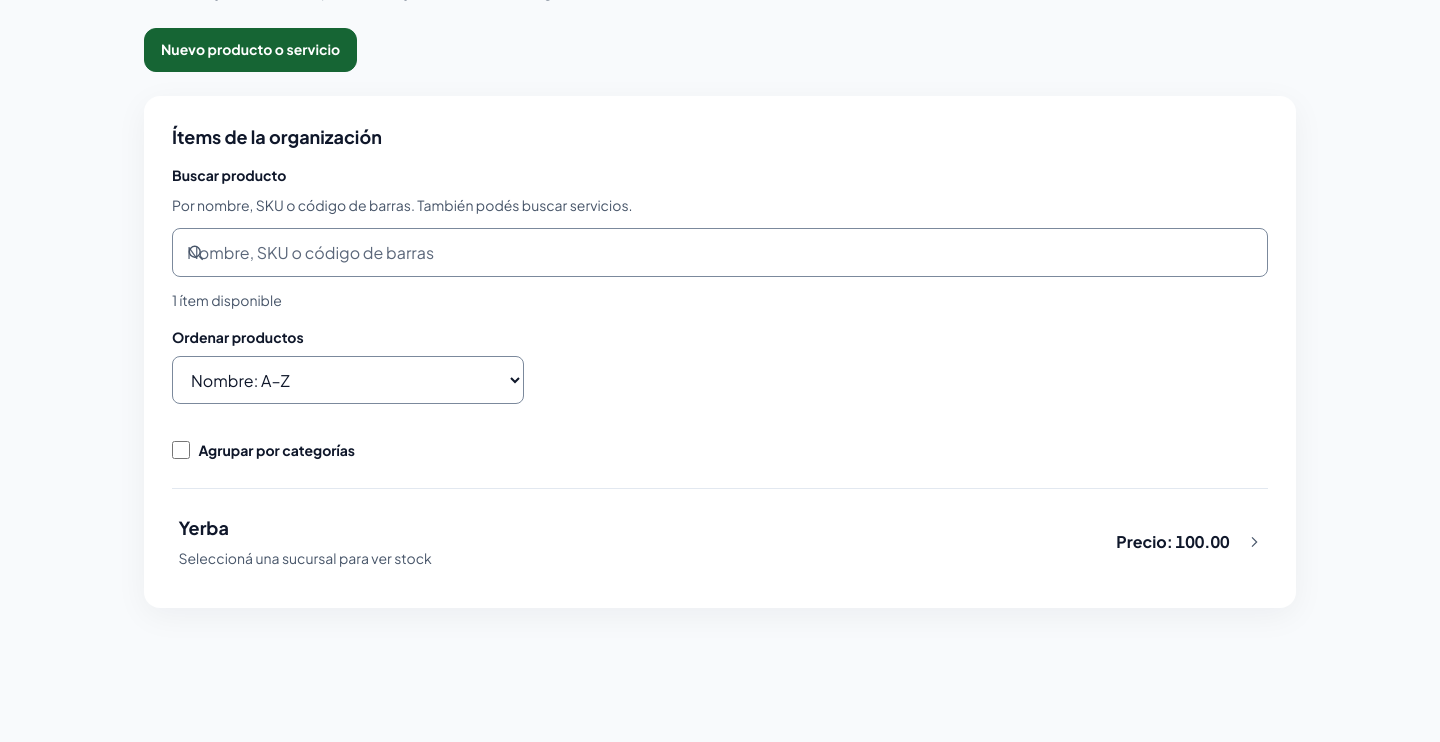
Scenario: keeps price, structure, status and deletion inside product editing
Click the text "Yerba" at (204, 528), box [178,516,229,539]
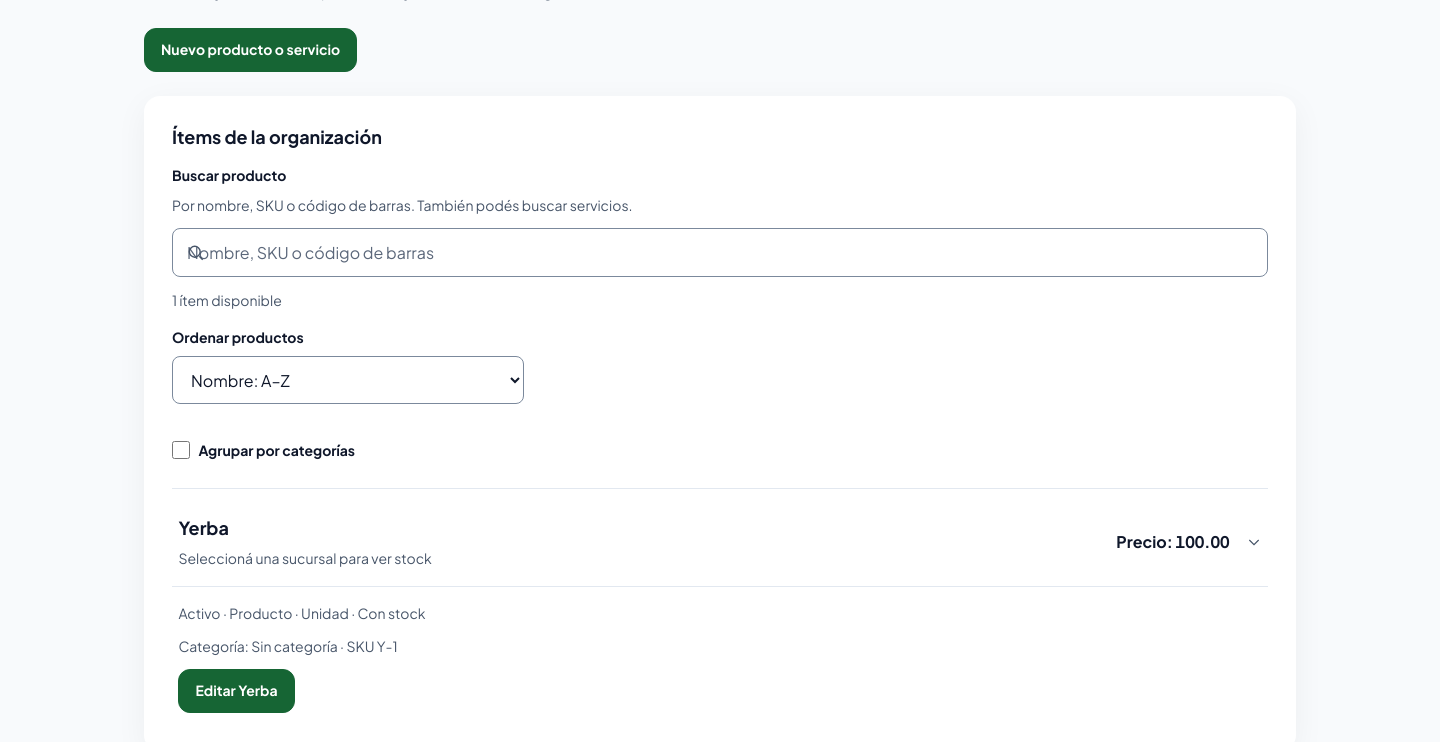
Expected: the button "Cambiar precio de Yerba" is not shown
Expected: the button "Cambiar estructura de Yerba" is not shown
Click the button "Editar Yerba" at (236, 691), box [178,669,295,713]
(page scrolled)
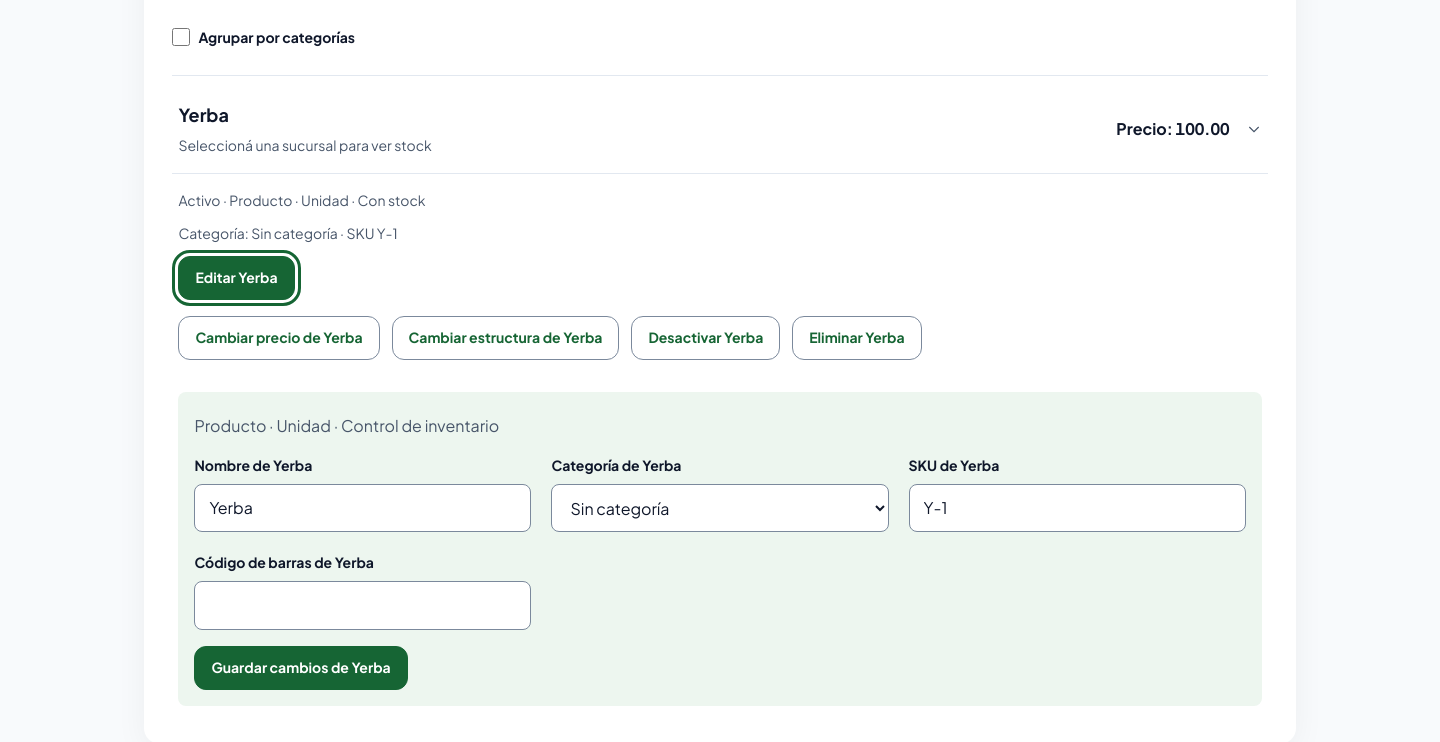
Now the button "Cambiar precio de Yerba" is shown
Now the button "Cambiar estructura de Yerba" is shown, box [392,316,619,360]
Now the button "Desactivar Yerba" is shown, box [631,316,780,360]
Click the button "Cambiar precio de Yerba" at (279, 338), box [178,316,380,360]
(page scrolled)
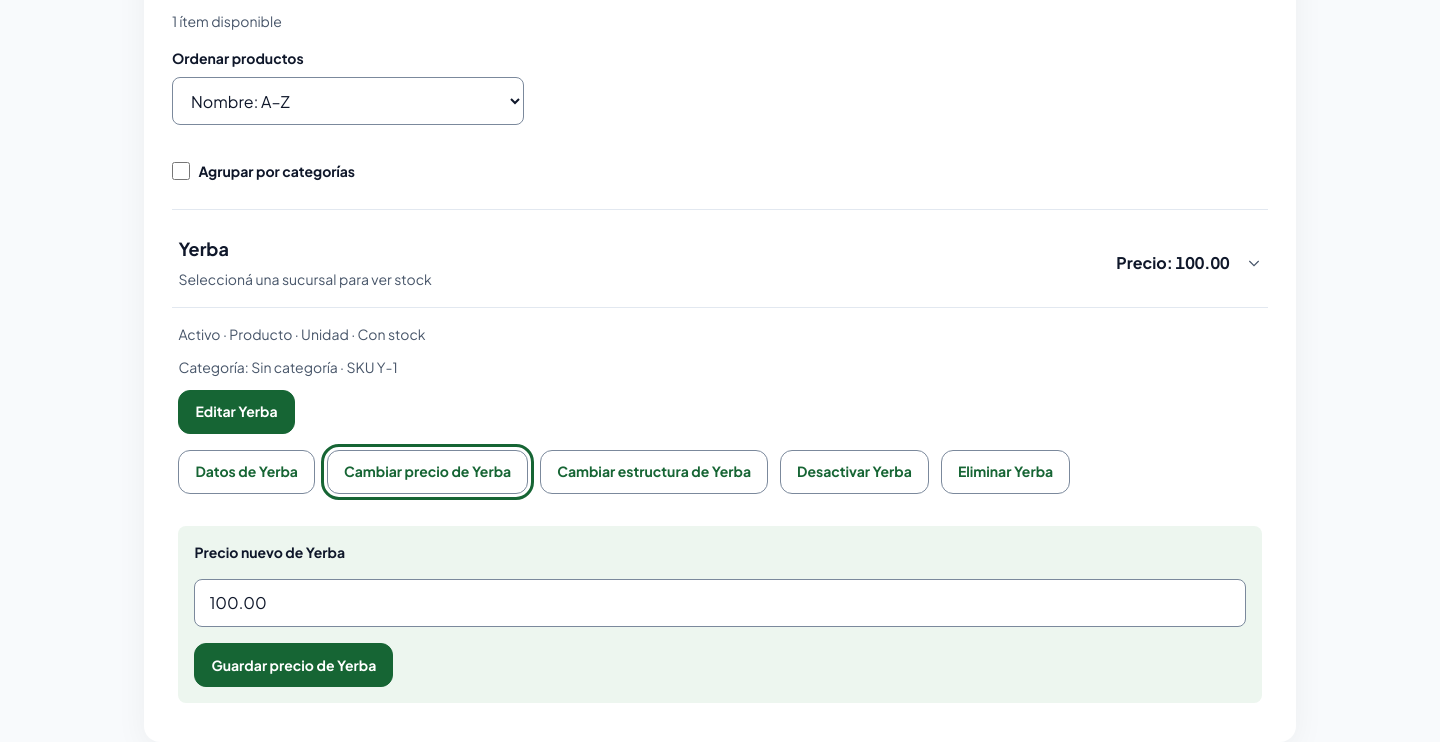
Now the field labelled "Precio nuevo de Yerba" is shown, box [194,579,1246,627]
Click the button "Editar Yerba" at (236, 412), box [178,390,295,434]
(page scrolled)
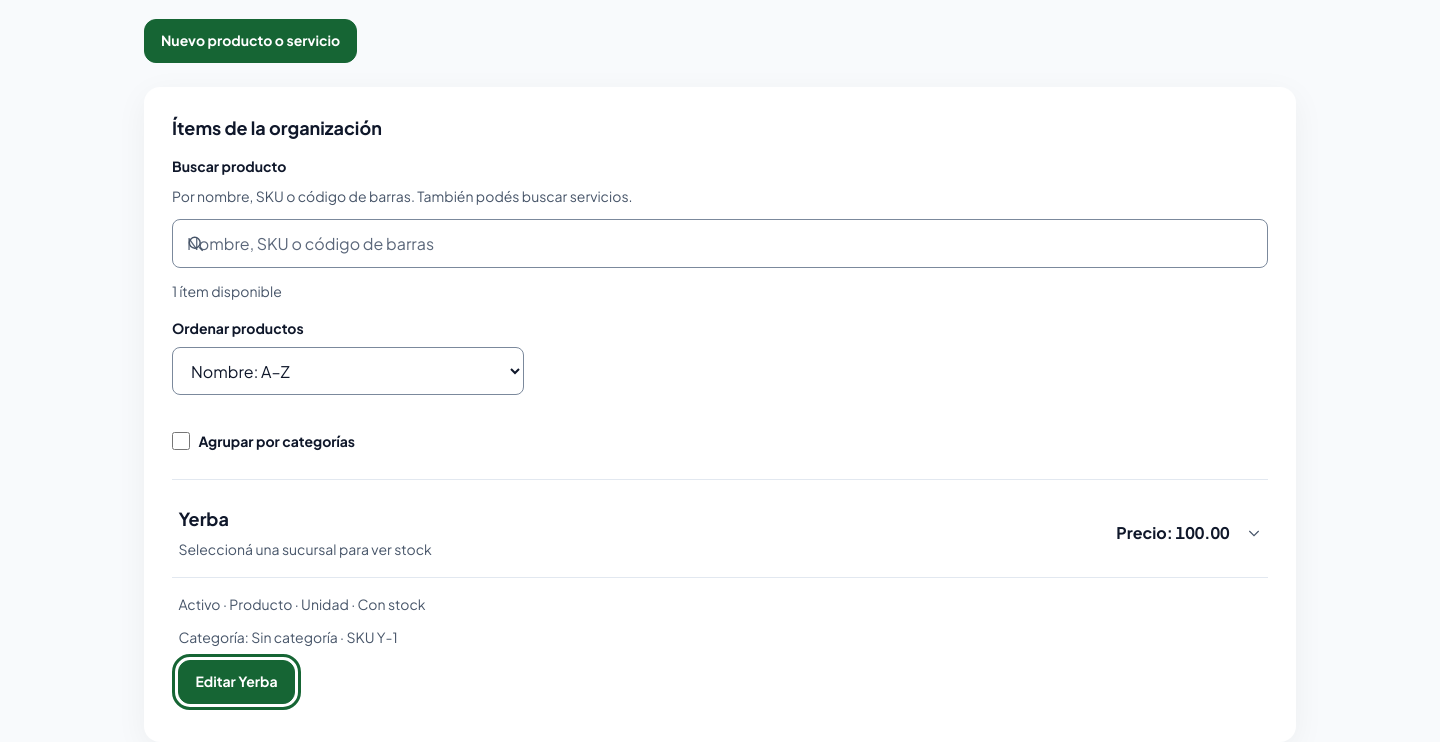
Now the label "Precio nuevo de Yerba" is gone
Now the button "Eliminar Yerba" is gone
